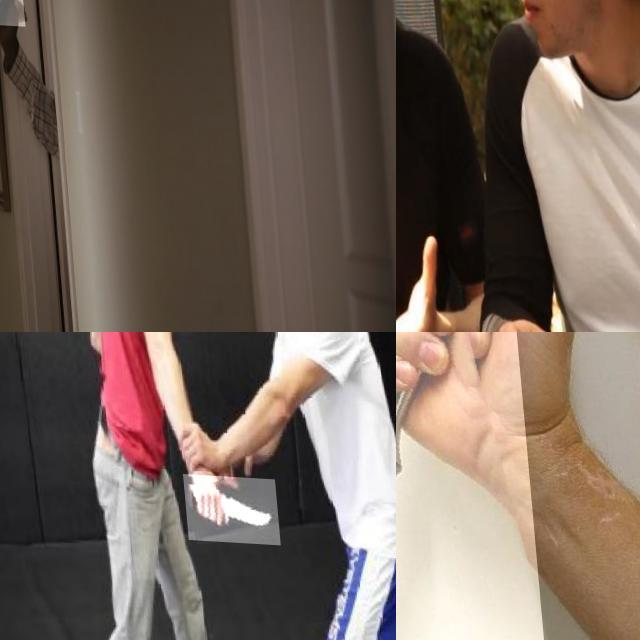-: (396, 332, 592, 640), (396, 125, 442, 308), (175, 472, 272, 542)
gun-knife-thesis - v11 Yolov5 augmented: (0, 0, 29, 60)
